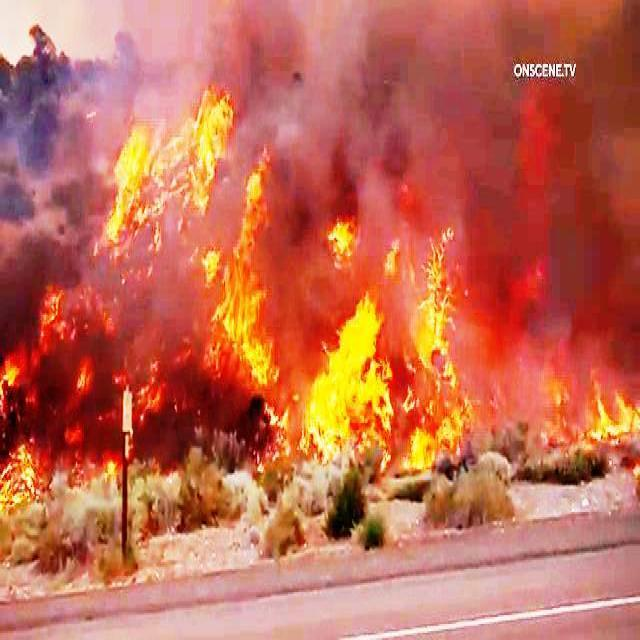Fire: (80, 69, 241, 292), (192, 207, 288, 412), (387, 251, 465, 478), (309, 316, 396, 476), (537, 368, 640, 476), (30, 290, 69, 377)
Smoke: (255, 10, 490, 216), (476, 97, 636, 250), (0, 43, 73, 289)
